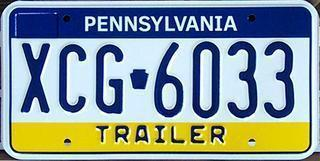placa de veiculo: (1, 2, 307, 155)
